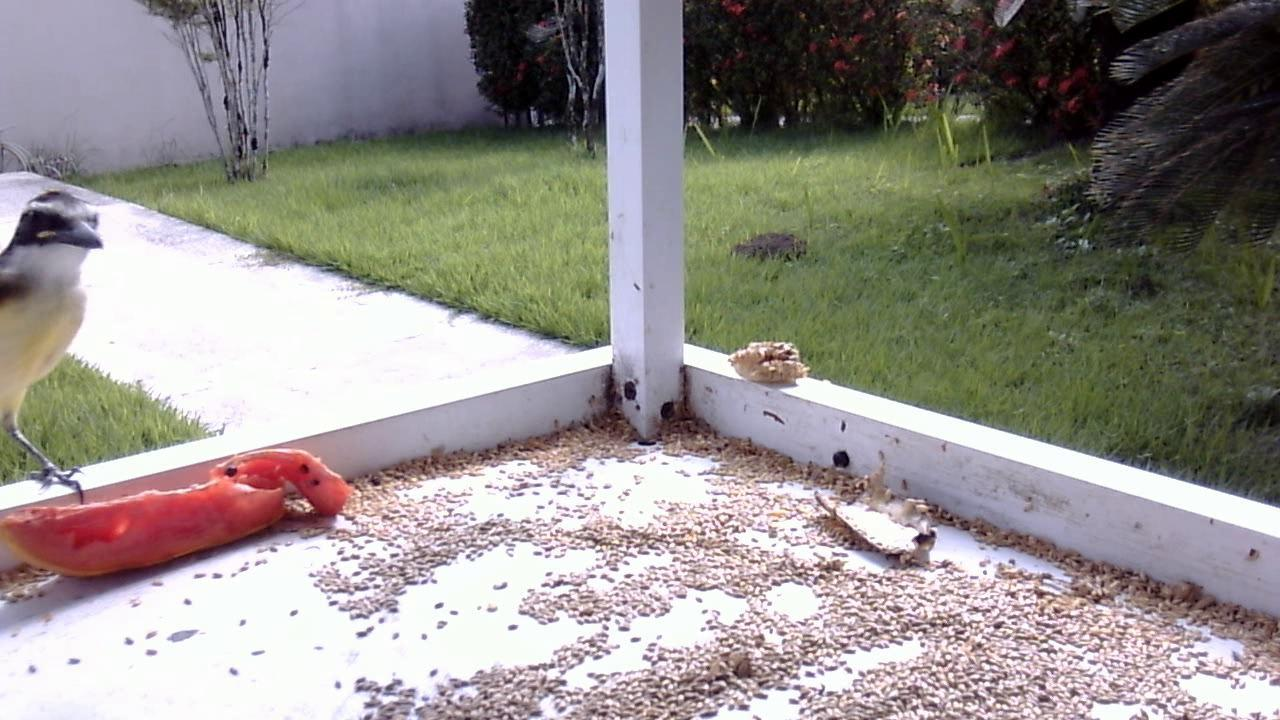bem_te_vi: (1, 161, 127, 525)
